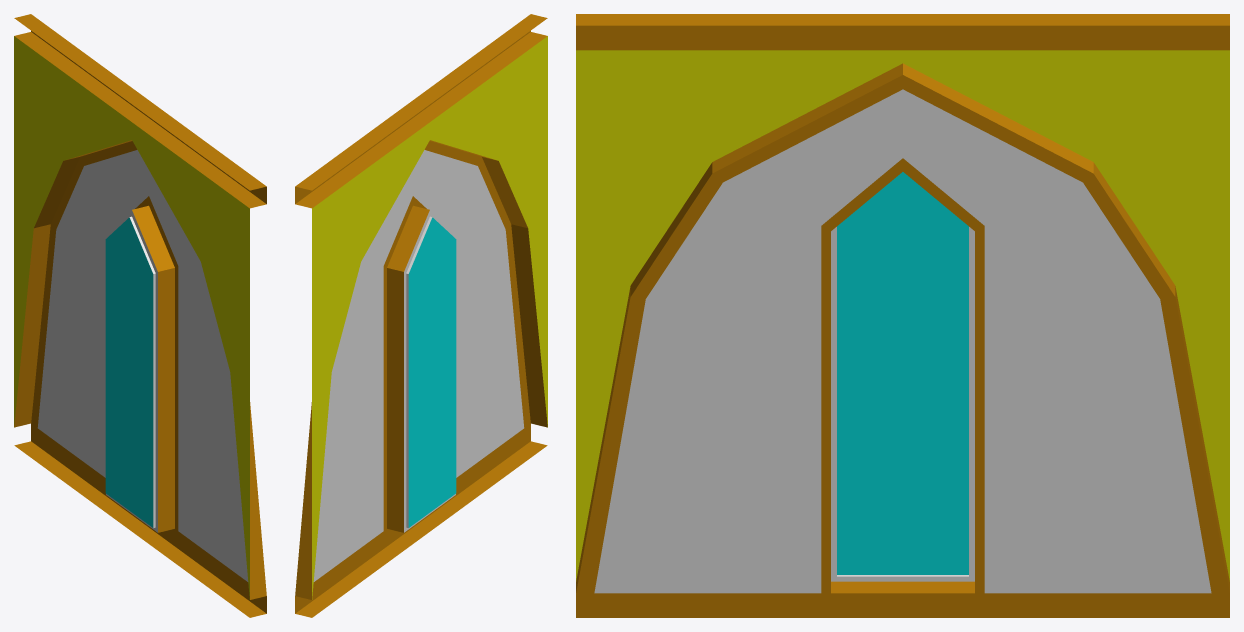
The model's file is Mesh_Wall_c01.fbx.
3 renders of one model, left to right at view 1: azimuth 30°, elevation 25°; view 2: azimuth 150°, elevation 25°; view 3: azimuth 270°, elevation 25°, orthographic. The views are drawn at different scales.
Parts seen in each view (by area): view 1: Mesh_Wall_c01; view 2: Mesh_Wall_c01; view 3: Mesh_Wall_c01.
Boxes of the visible parts, <box> form: Mesh_Wall_c01: <box>14,14,266,617</box>; Mesh_Wall_c01: <box>295,14,547,617</box>; Mesh_Wall_c01: <box>576,14,1229,617</box>.
Size of the model in its own units: 1.15 by 24 by 24.
